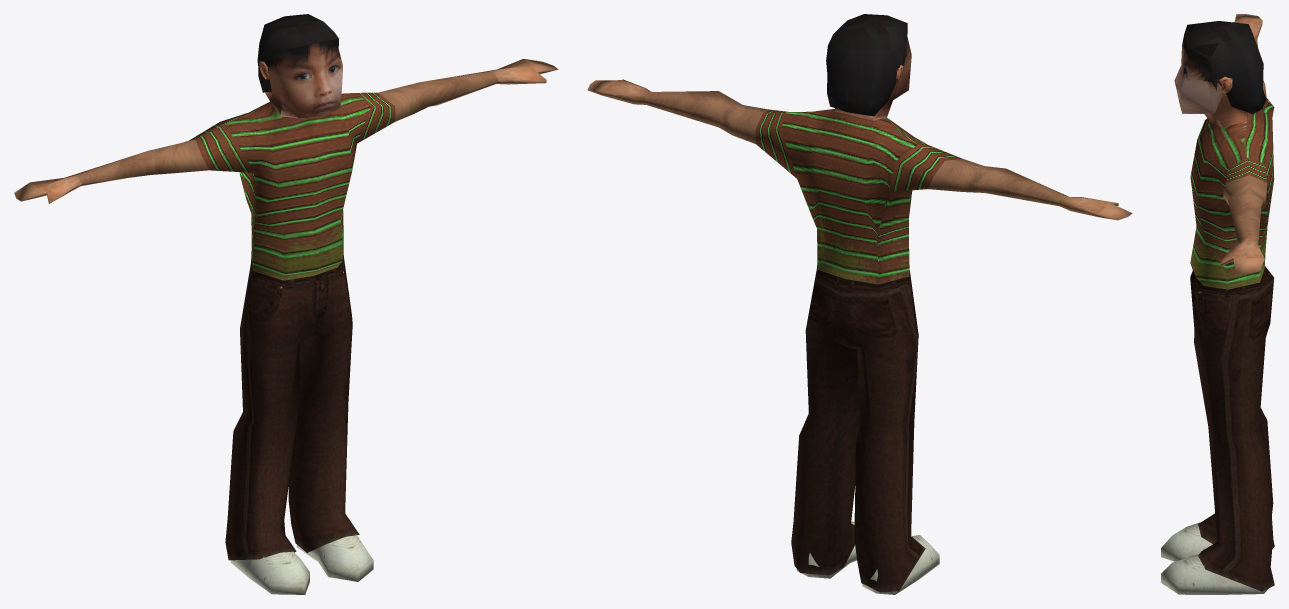
File: nino1.fbx
3 views of the same model, side by side, from view 1: azimuth 30°, elevation 25°; view 2: azimuth 150°, elevation 25°; view 3: azimuth 270°, elevation 25° (orthographic).
Visible parts, largest first — view 1: BlackManMullet; view 2: BlackManMullet; view 3: BlackManMullet.
Part boxes in pixels (<box>): BlackManMullet: <box>14,14,558,594</box>; BlackManMullet: <box>587,14,1132,594</box>; BlackManMullet: <box>1161,14,1274,594</box>.
Size of the model in its own units: 142 by 138 by 26.13.
2 materials, 2 textured.
